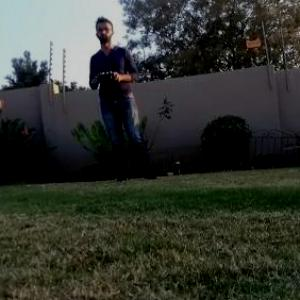follow: (86, 13, 165, 186)
